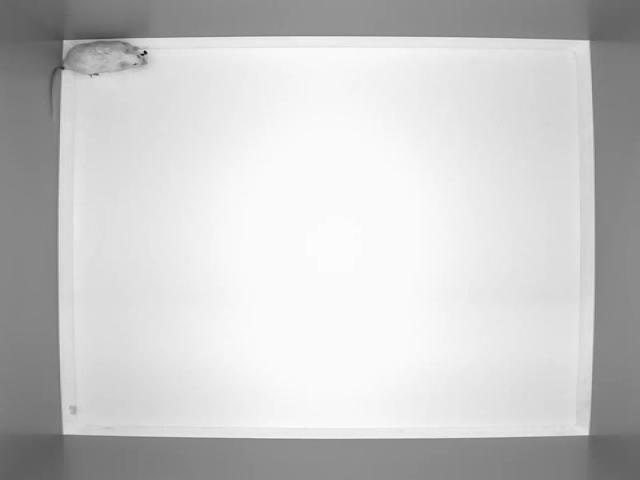Tikus: (49, 35, 168, 110)
